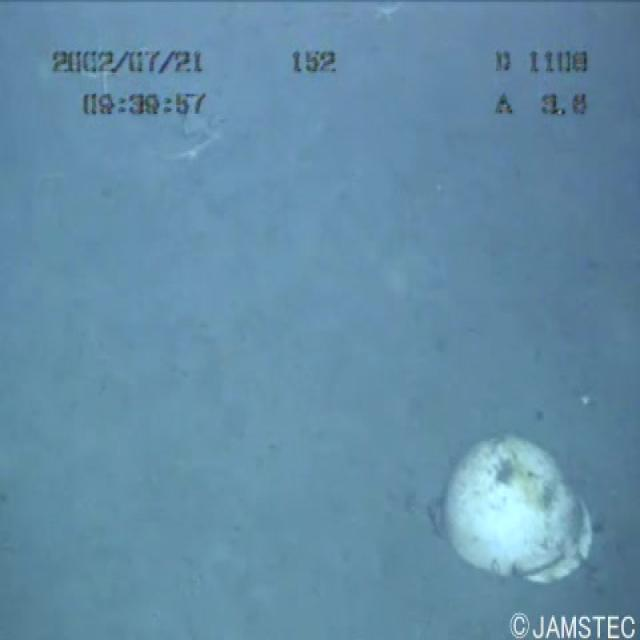plastic: (412, 423, 607, 594)
